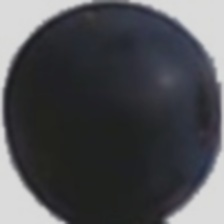grapes: (33, 27, 204, 194)
